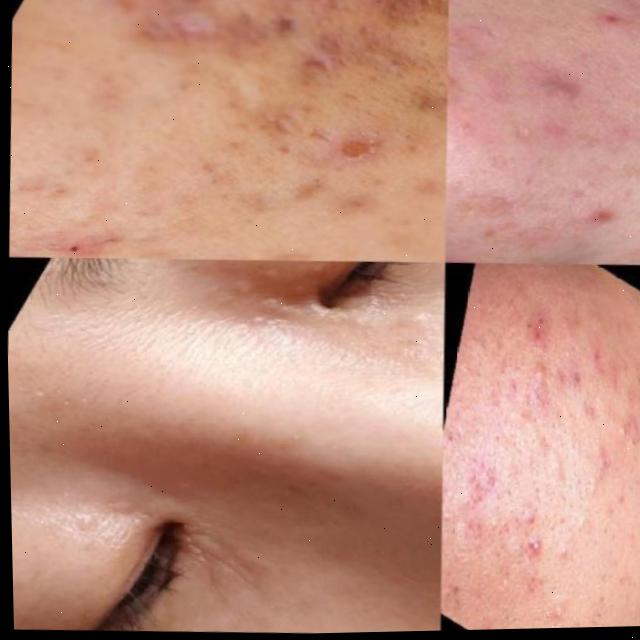Acne: (12, 0, 457, 270), (442, 290, 640, 621), (443, 0, 640, 255)
